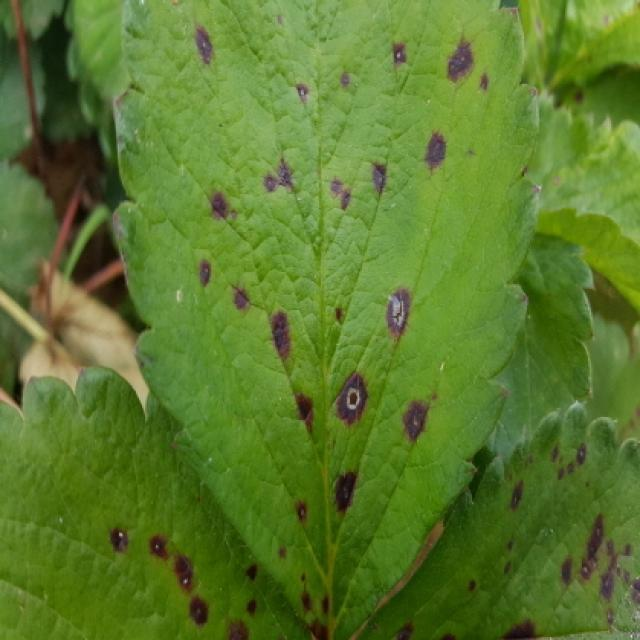Leaf Spot: (106, 0, 545, 638), (0, 366, 324, 638), (351, 401, 638, 638), (547, 66, 638, 129)
